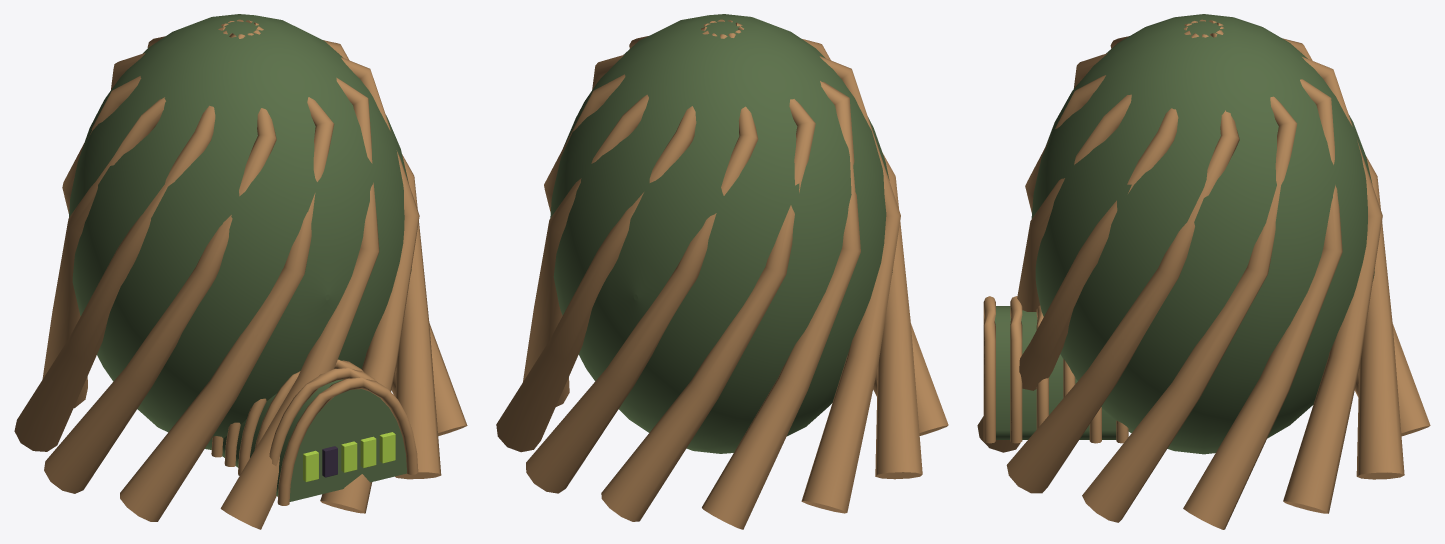
The model's file is xylo_seed_vault.glb.
3 views of the same model, side by side, from view 1: azimuth 30°, elevation 25°; view 2: azimuth 150°, elevation 25°; view 3: azimuth 270°, elevation 25° (orthographic).
Visible parts, largest first — view 1: xylo_seed_vault; view 2: xylo_seed_vault; view 3: xylo_seed_vault.
Part boxes in pixels (<box>): xylo_seed_vault: <box>14,14,467,529</box>; xylo_seed_vault: <box>496,14,948,529</box>; xylo_seed_vault: <box>977,14,1430,529</box>.
Size of the model in its own units: 17.71 by 18.12 by 17.77.
